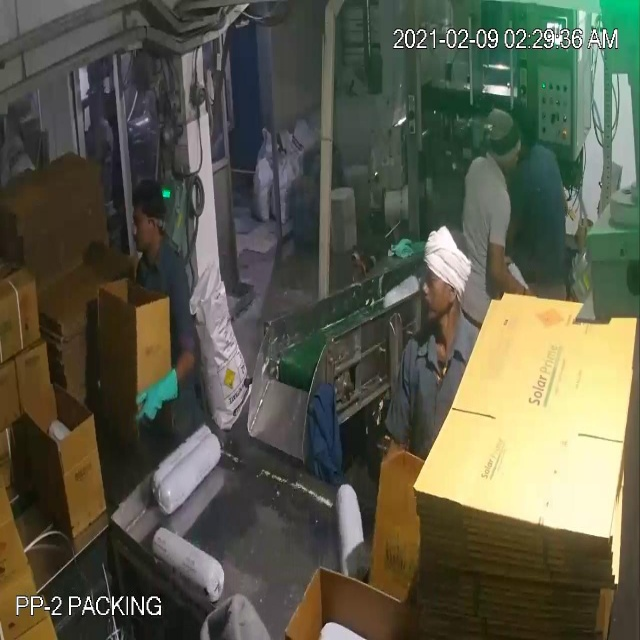Guantes: (133, 364, 180, 432)
Sin_guantes: (489, 228, 550, 313)
